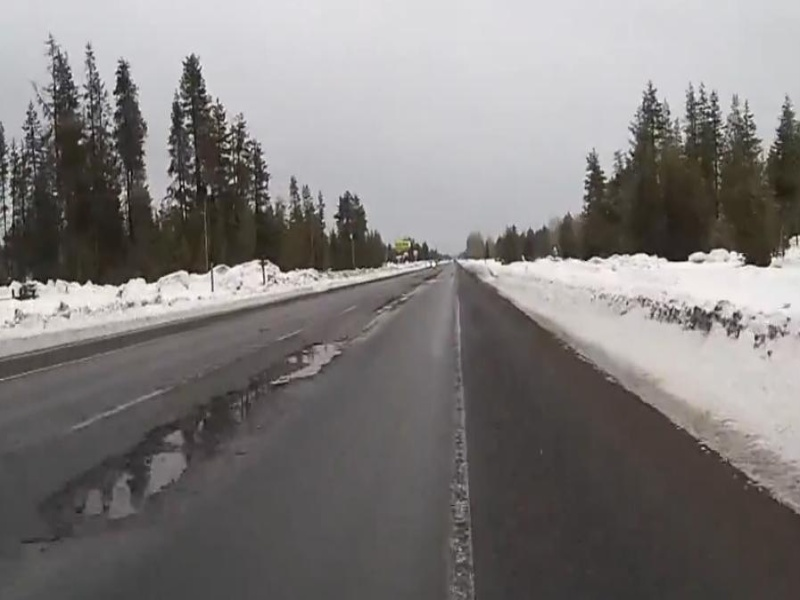pothole: (47, 413, 216, 543), (262, 331, 351, 401)
